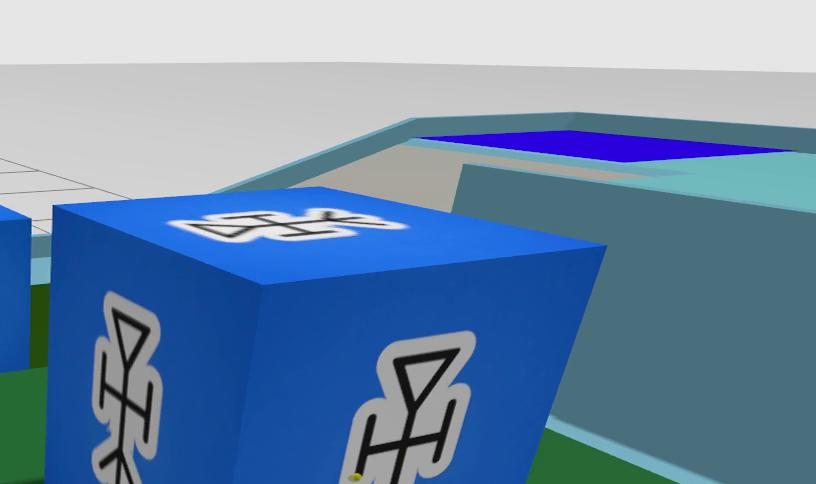KFS_REAL: (44, 186, 604, 484), (337, 331, 474, 484), (91, 293, 162, 484), (0, 205, 31, 371)
